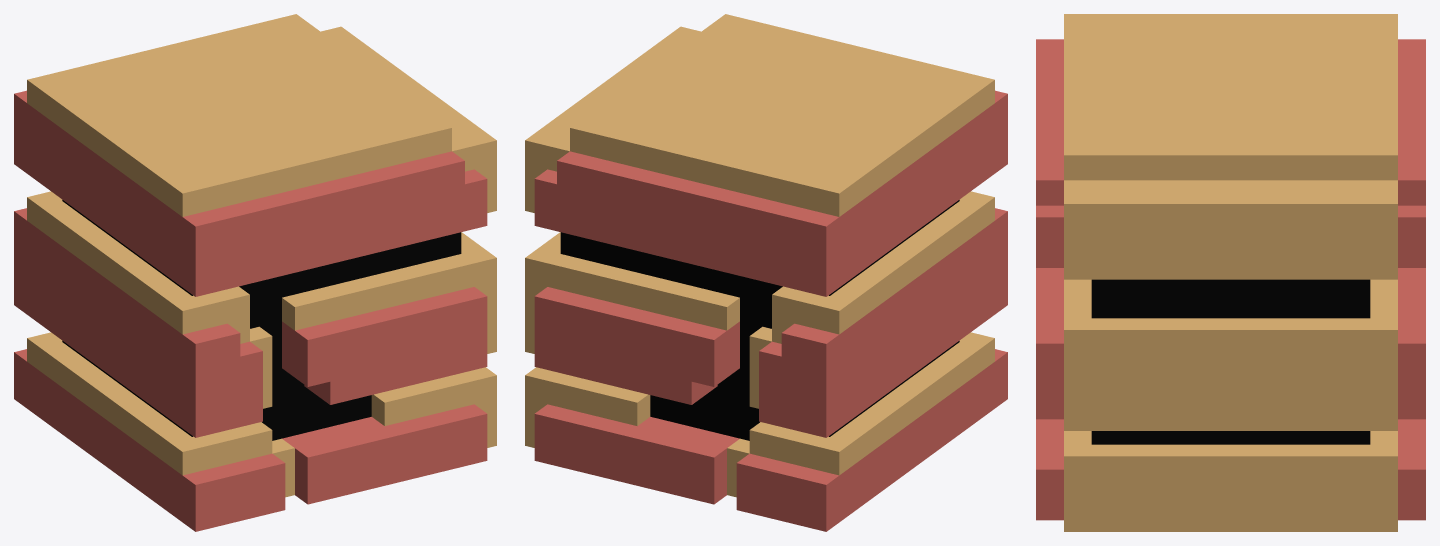
File: br-m-brick-orange.fbx
3 renders of one model, left to right at view 1: azimuth 30°, elevation 25°; view 2: azimuth 150°, elevation 25°; view 3: azimuth 270°, elevation 25°, orthographic. The views are drawn at different scales.
Parts seen in each view (by area): view 1: pCube406, pCube405, pCube384; view 2: pCube406, pCube405, pCube384; view 3: pCube405, pCube406, pCube384.
Boxes of the visible parts, bbox=[...] form: pCube406: bbox=[14, 90, 487, 531]; pCube405: bbox=[27, 14, 496, 497]; pCube384: bbox=[62, 200, 461, 440]; pCube406: bbox=[534, 90, 1007, 531]; pCube405: bbox=[525, 14, 994, 497]; pCube384: bbox=[560, 200, 959, 440]; pCube405: bbox=[1064, 14, 1397, 531]; pCube406: bbox=[1036, 39, 1425, 520]; pCube384: bbox=[1091, 279, 1370, 444].
Bounding box in the file's own units: 0.875 × 0.875 × 0.875.
